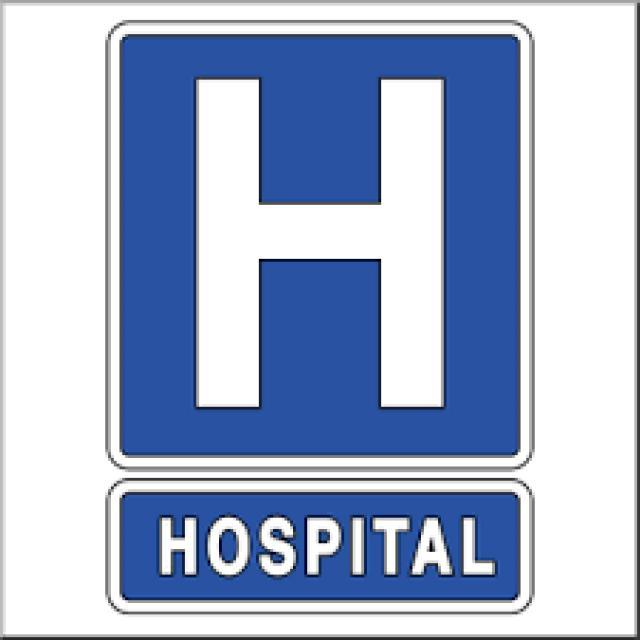hospital ahead: (108, 18, 533, 464)
